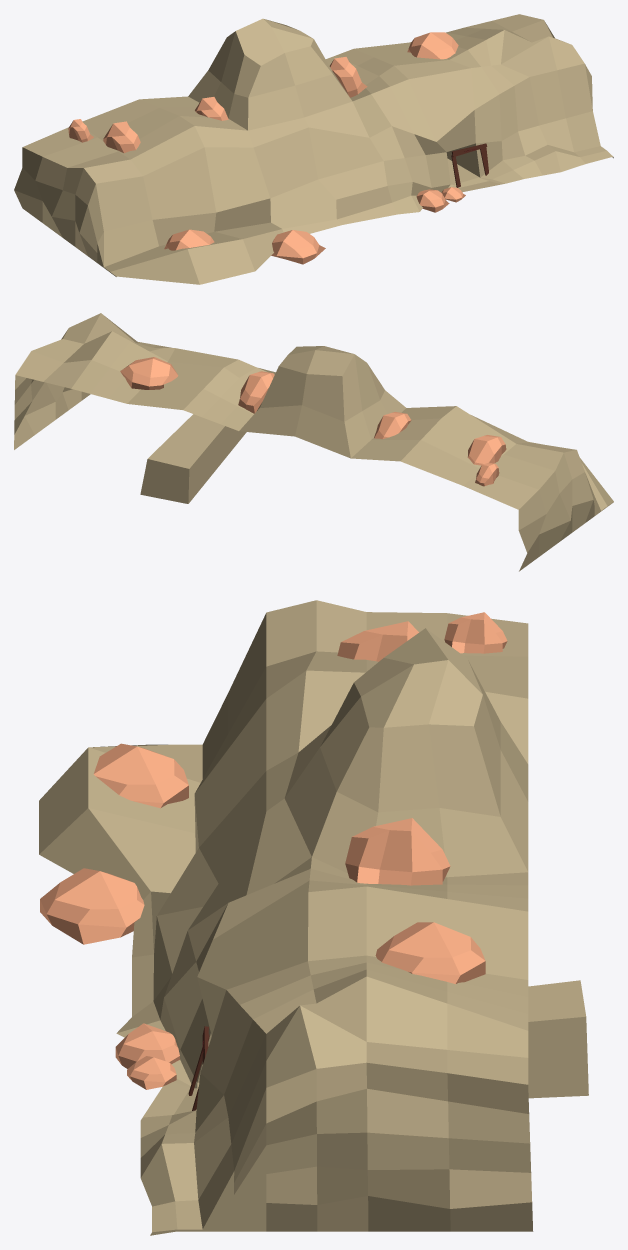
Rendered from rockk.fbx.
3 views of the same model, one above another, from view 1: azimuth 30°, elevation 25°; view 2: azimuth 150°, elevation 25°; view 3: azimuth 270°, elevation 25° (orthographic). The views are drawn at different scales.
Visible parts, largest first — view 1: Plane003, Box364, Box374, Box373, Box360, Box365, Box362, Box371, Box372; view 2: Plane003, Box374, Box360, Box373, Box371, Box372; view 3: Plane003, Box364, Box360, Box374, Box365, Box372, Box373, Box362, Box361.
Boxes of the visible parts, x1=… form: Plane003: x1=14, y1=14, x2=613, y2=284; Box364: x1=271, y1=230, x2=325, y2=264; Box374: x1=407, y1=32, x2=458, y2=59; Box373: x1=103, y1=121, x2=140, y2=153; Box360: x1=329, y1=57, x2=367, y2=97; Box365: x1=164, y1=229, x2=214, y2=250; Box362: x1=416, y1=189, x2=449, y2=212; Box371: x1=195, y1=97, x2=228, y2=120; Box372: x1=68, y1=119, x2=93, y2=142; Plane003: x1=14, y1=313, x2=613, y2=571; Box374: x1=120, y1=357, x2=178, y2=389; Box360: x1=238, y1=371, x2=274, y2=413; Box373: x1=467, y1=435, x2=506, y2=465; Box371: x1=374, y1=412, x2=411, y2=439; Box372: x1=475, y1=462, x2=499, y2=486; Plane003: x1=39, y1=600, x2=588, y2=1235; Box364: x1=40, y1=868, x2=144, y2=944; Box360: x1=345, y1=818, x2=450, y2=885; Box374: x1=375, y1=922, x2=485, y2=984; Box365: x1=93, y1=743, x2=188, y2=808; Box372: x1=444, y1=612, x2=507, y2=653; Box373: x1=337, y1=621, x2=418, y2=661; Box362: x1=115, y1=1023, x2=179, y2=1068; Box361: x1=127, y1=1056, x2=176, y2=1089.
Size of the model in its own units: 7293 by 2100 by 3350.
